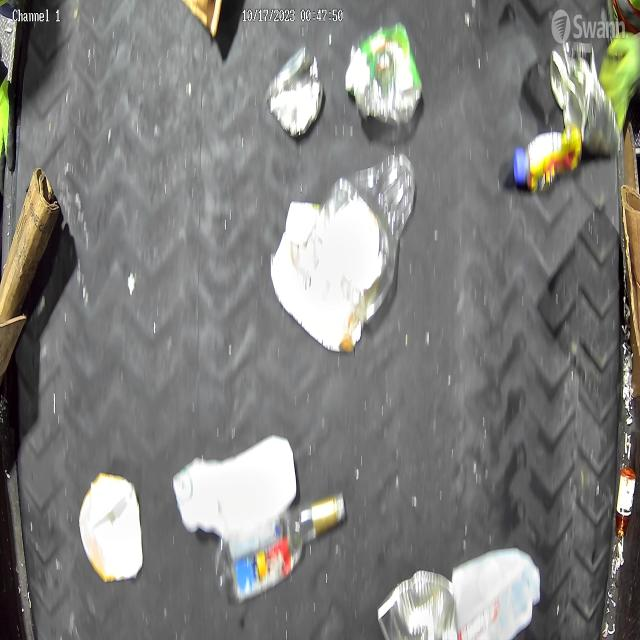can: (376, 569, 457, 640), (266, 45, 324, 139)
milk_jug: (174, 436, 298, 536), (454, 547, 544, 640)
non_white_jug: (79, 470, 143, 582)
plastic_bottle: (217, 499, 341, 603)
